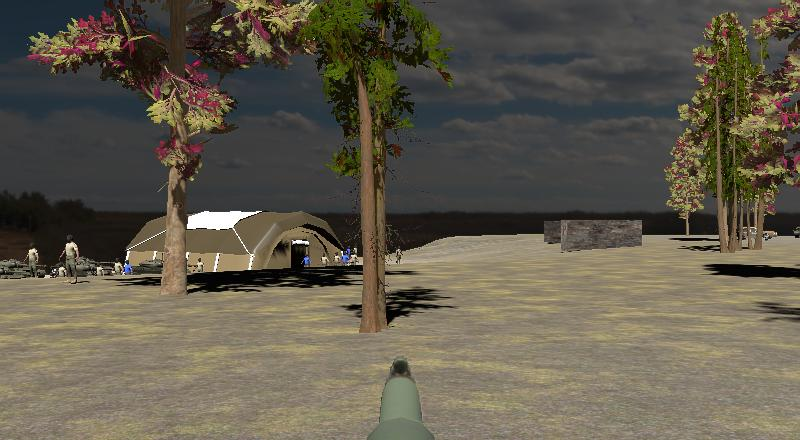Human: (58, 232, 81, 285), (301, 250, 312, 272), (123, 260, 135, 278), (123, 260, 134, 278)
Tank: (0, 257, 45, 279), (792, 223, 800, 240)
